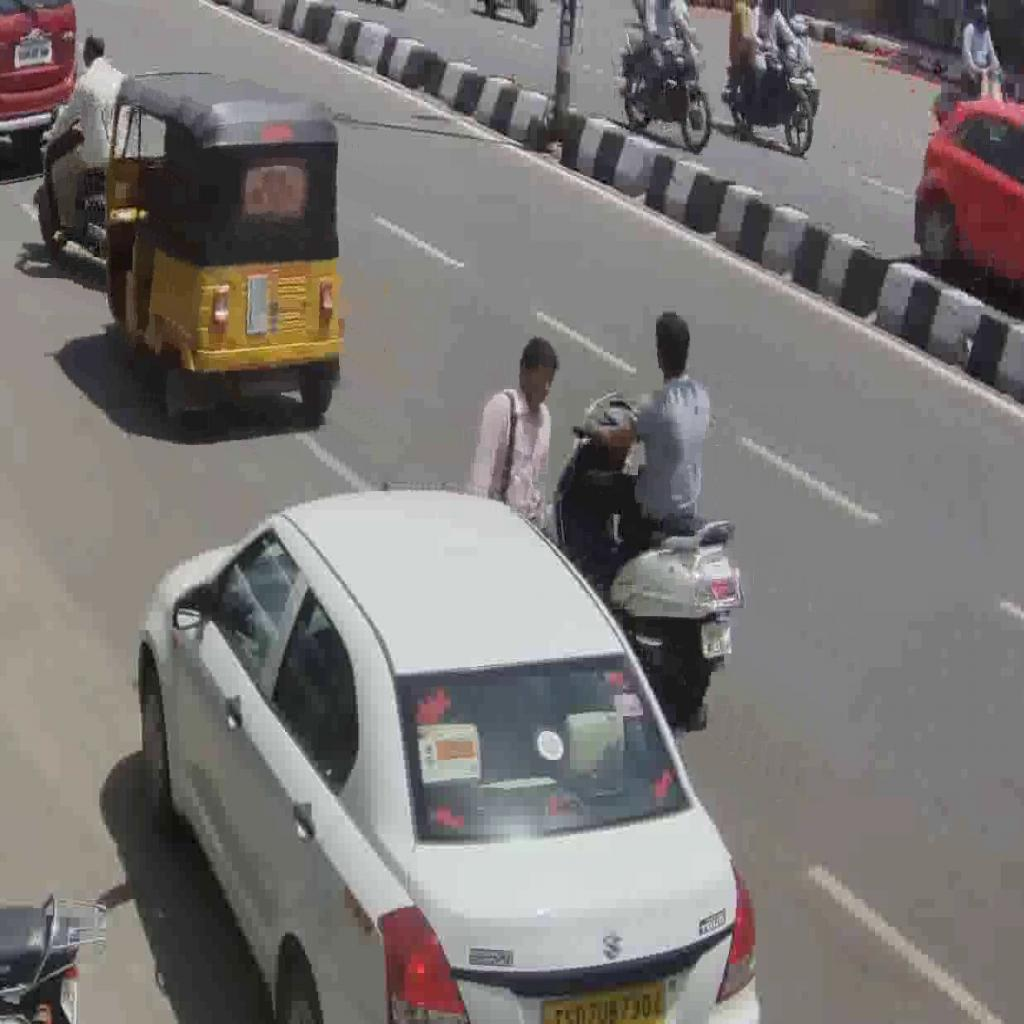helmet: (538, 387, 746, 719), (34, 102, 106, 269)
